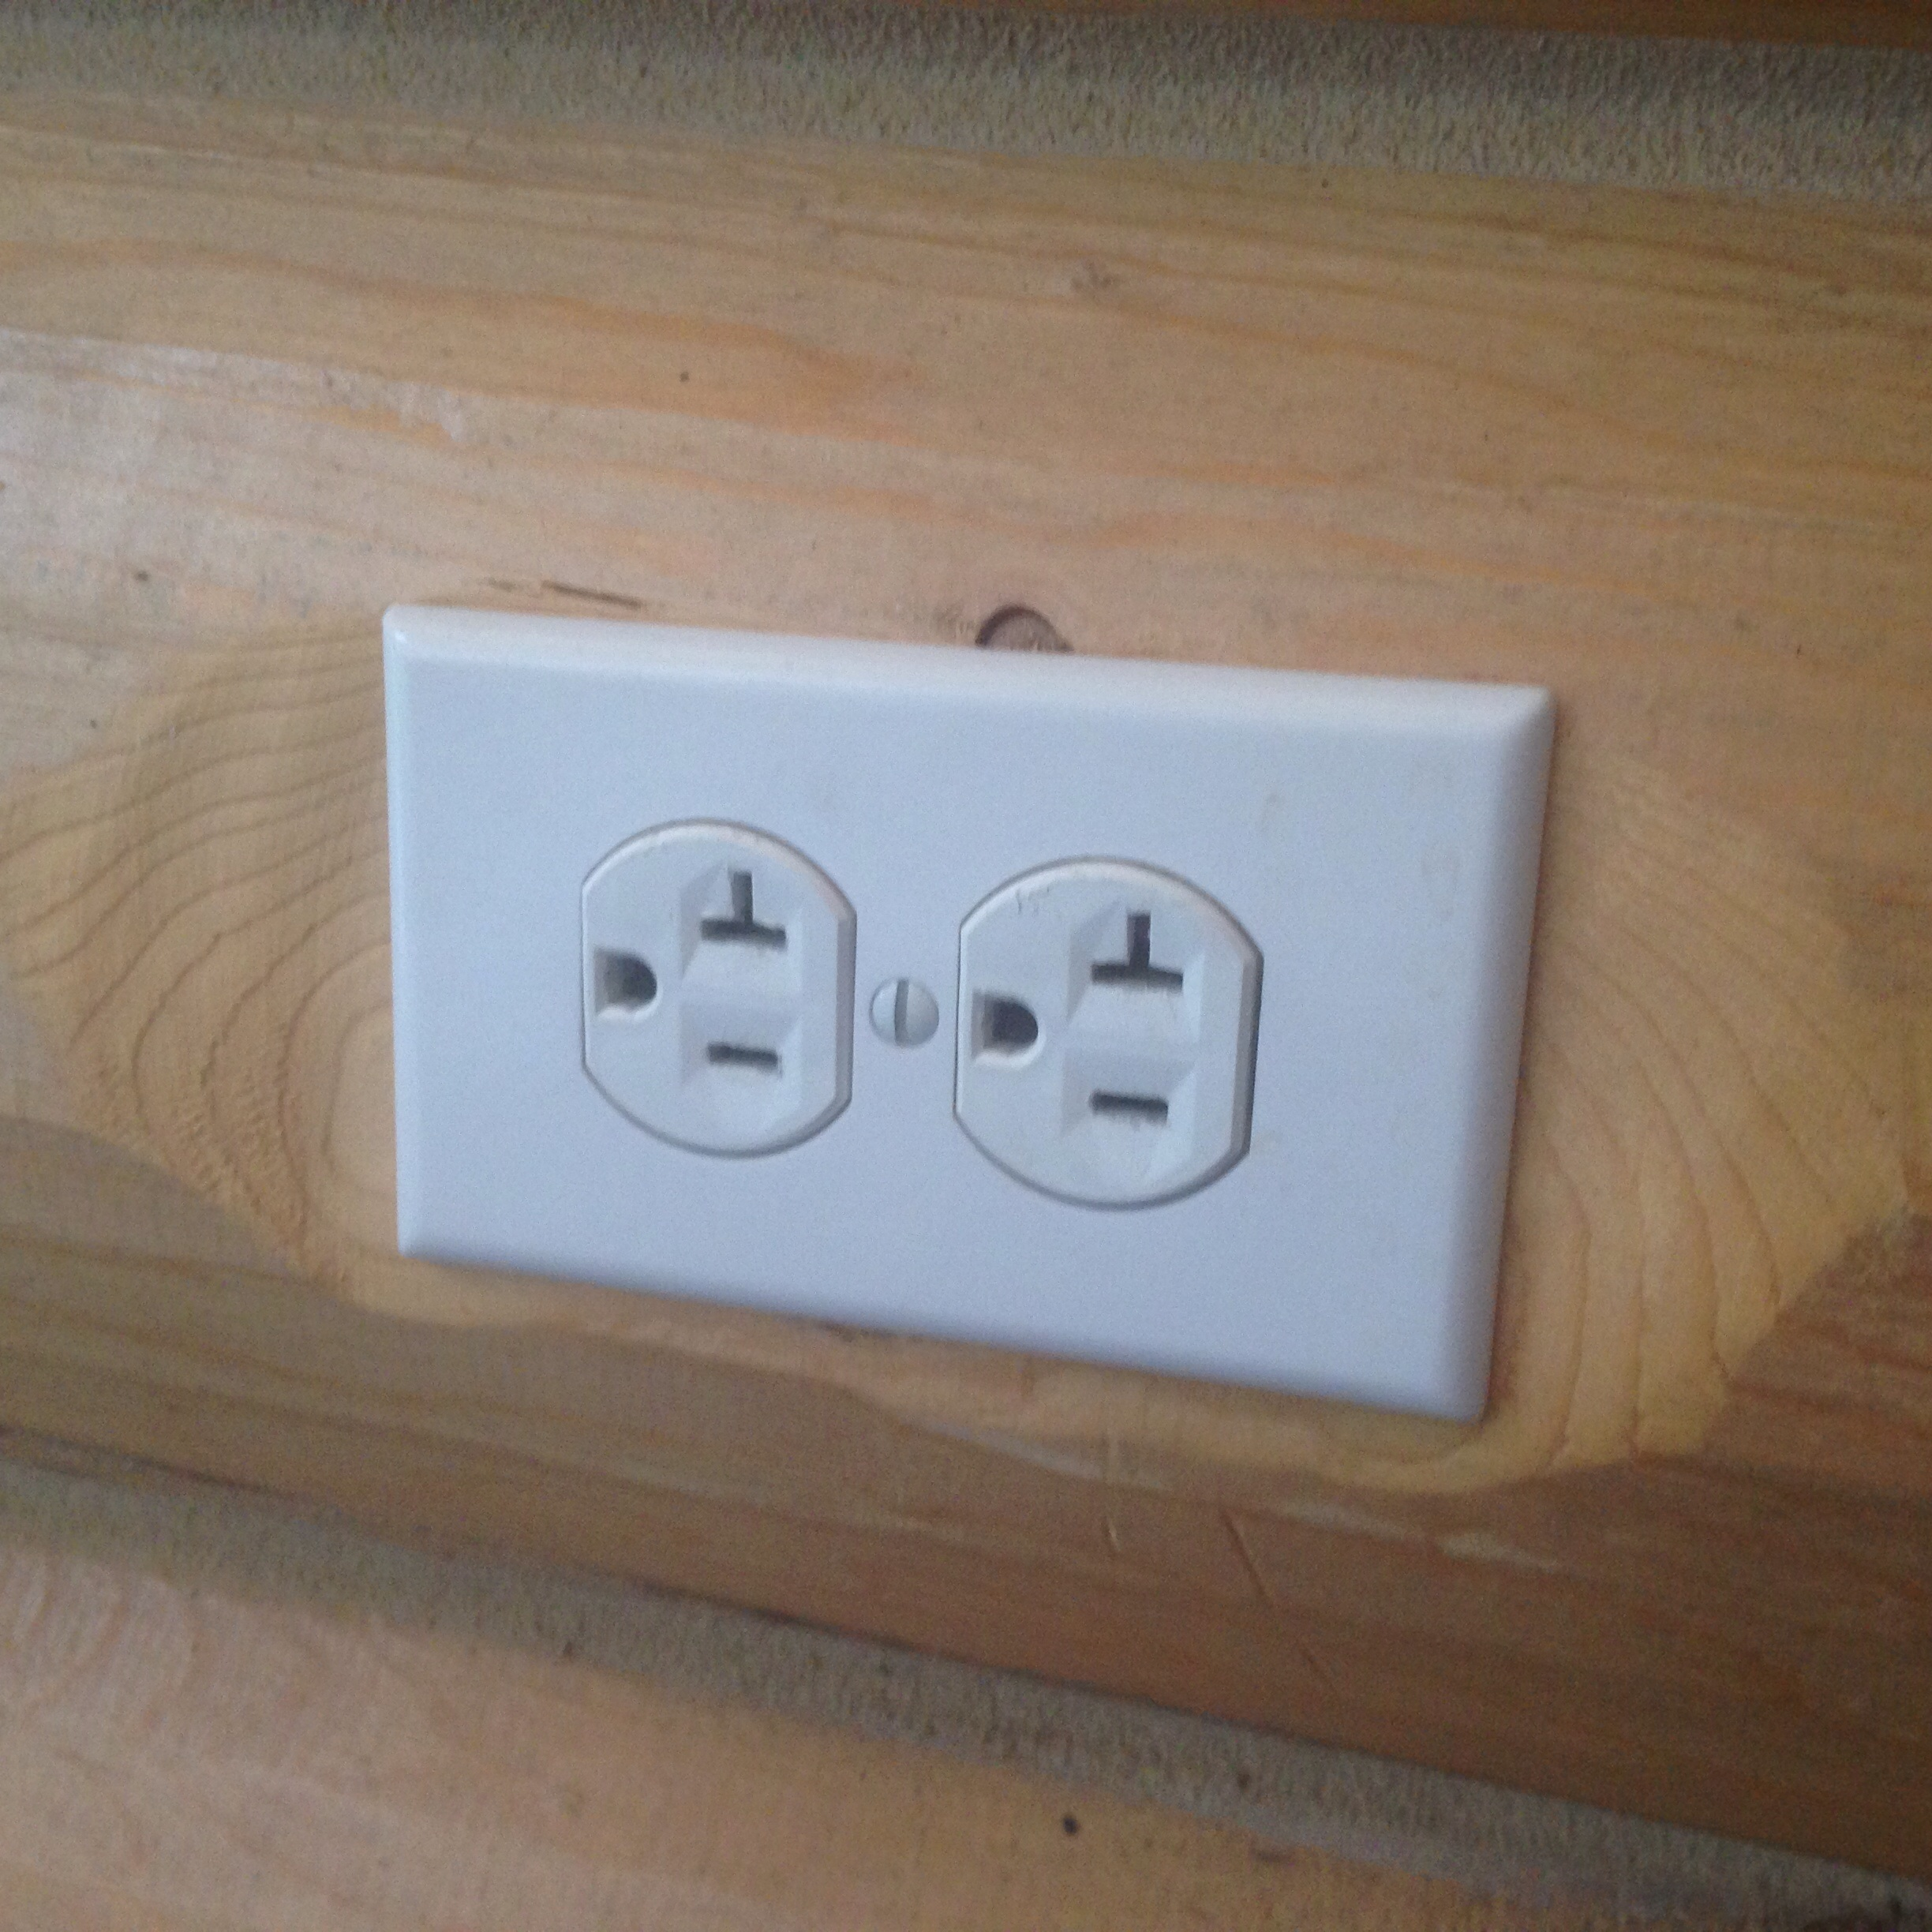outlet: (978, 876, 1212, 1154), (584, 837, 812, 1108)
